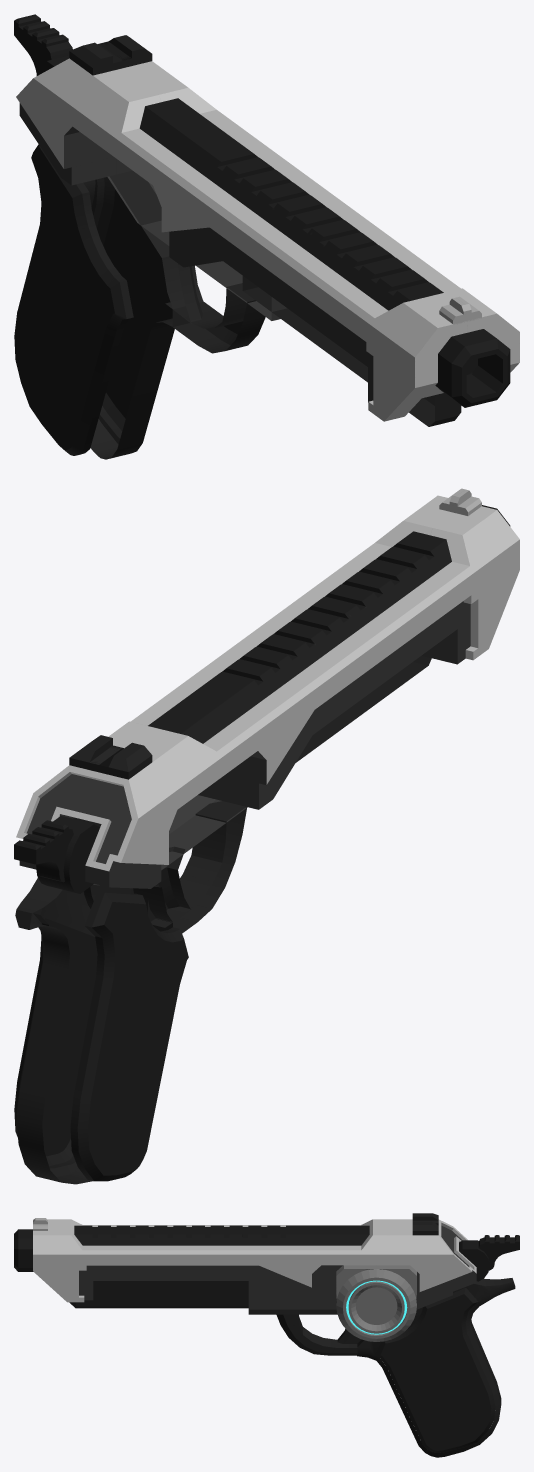
3 renders of one model, top to bottom at view 1: azimuth 30°, elevation 25°; view 2: azimuth 150°, elevation 25°; view 3: azimuth 270°, elevation 25°, orthographic. The views are drawn at different scales.
Parts seen in each view (by area): view 1: slider, padding, railing, grip, muzzle, triggerGuard, body2, backsights, hammer, body, trigger, frontsights; view 2: slider, padding, railing, grip, triggerGuard, hammer, backsights, hammerPivet, body, body2, trigger; view 3: slider, padding, railing, energy, body2, grip, body, triggerGuard, hammer, muzzle, hammerPivet, backsights.
Part boxes in pixels (bbox=[...]): slider: bbox=[16, 58, 519, 421]; padding: bbox=[14, 144, 172, 455]; railing: bbox=[139, 98, 443, 310]; grip: bbox=[83, 170, 203, 459]; muzzle: bbox=[435, 329, 510, 407]; triggerGuard: bbox=[172, 283, 265, 353]; body2: bbox=[242, 276, 461, 426]; backsights: bbox=[69, 35, 152, 75]; hammer: bbox=[14, 14, 72, 73]; body: bbox=[107, 176, 286, 320]; trigger: bbox=[165, 264, 202, 323]; frontsights: bbox=[439, 296, 481, 324]; slider: bbox=[16, 495, 519, 888]; padding: bbox=[14, 887, 188, 1181]; railing: bbox=[148, 531, 451, 743]; grip: bbox=[15, 877, 172, 1184]; triggerGuard: bbox=[153, 801, 247, 933]; hammer: bbox=[14, 820, 73, 882]; backsights: bbox=[69, 735, 152, 779]; hammerPivet: bbox=[36, 816, 99, 893]; body: bbox=[60, 795, 247, 885]; body2: bbox=[296, 655, 431, 762]; trigger: bbox=[148, 846, 190, 927]; slider: bbox=[33, 1219, 476, 1302]; padding: bbox=[375, 1287, 495, 1452]; railing: bbox=[74, 1225, 369, 1245]; energy: bbox=[336, 1265, 416, 1341]; body2: bbox=[69, 1281, 248, 1308]; grip: bbox=[357, 1278, 515, 1457]; body: bbox=[248, 1265, 452, 1314]; triggerGuard: bbox=[276, 1314, 357, 1355]; hammer: bbox=[478, 1235, 519, 1270]; muzzle: bbox=[14, 1229, 33, 1271]; hammerPivet: bbox=[459, 1240, 489, 1281]; backsights: bbox=[412, 1213, 438, 1235].
Bounding box in the file's own units: 0.5628 × 1.85 × 3.66.
1 material, 1 textured.
